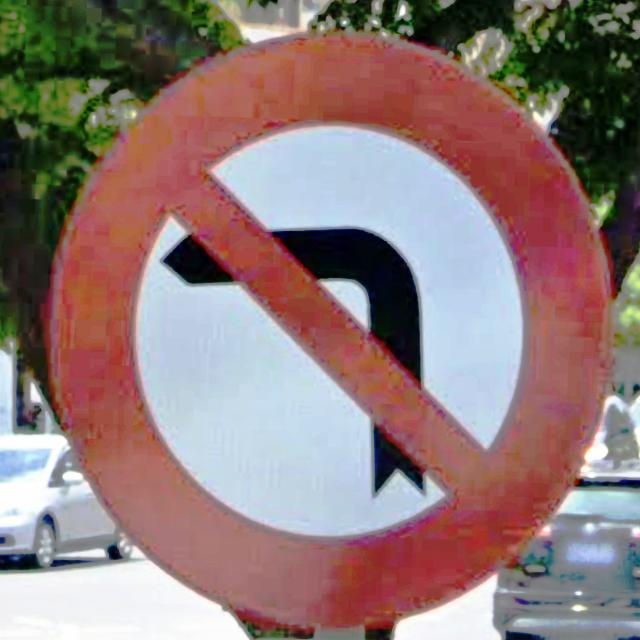noturnleft: (47, 33, 616, 633)
